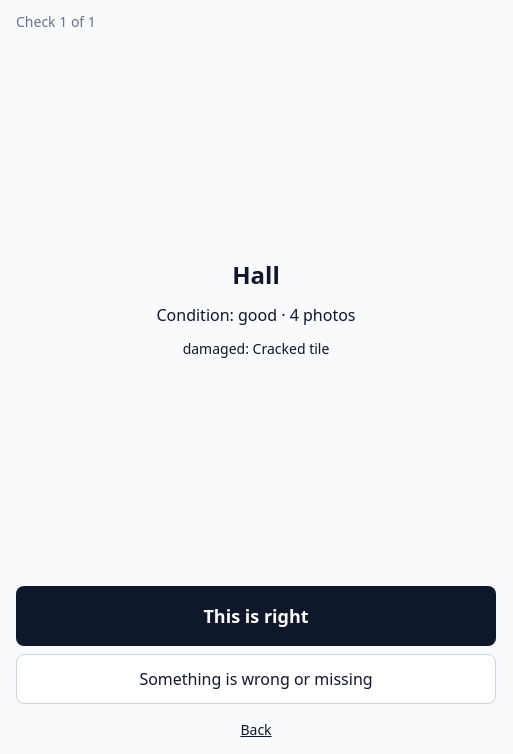
Test: tenant sign-off › walks the summary one room per screen, then each declaration
Expected: the heading "Hall" is shown, [232,259,280,291]
Expected: the text "damaged: Cracked tile" is shown, [183,339,329,359]
Click the button "This is right".
click(256, 616)  # box [16,586,496,646]
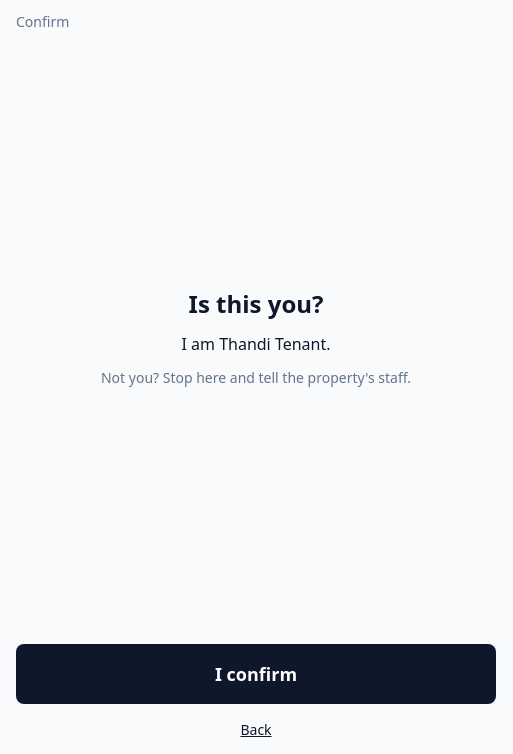
Now the text "I am Thandi Tenant." is shown, box [182,332,331,356]
Click the button "I confirm".
click(256, 674)  # box [16,644,496,704]
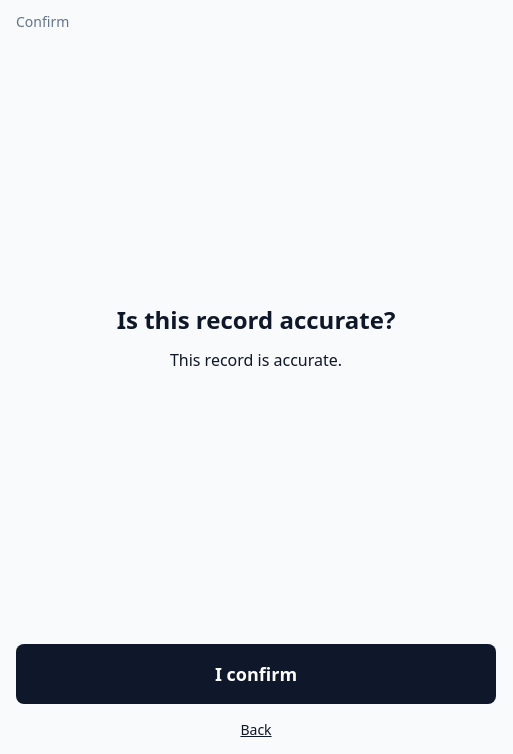
Now the text "This record is accurate." is shown, box [170,348,342,372]
